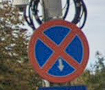oprirea_interzisa: (27, 20, 90, 84)
